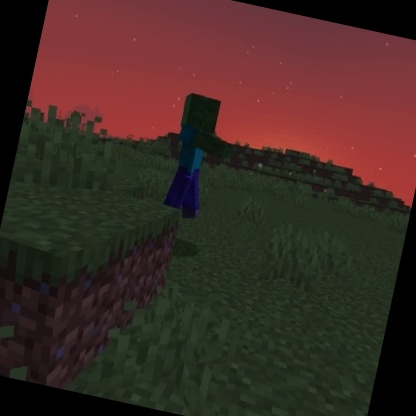zombie: (156, 89, 242, 227)
